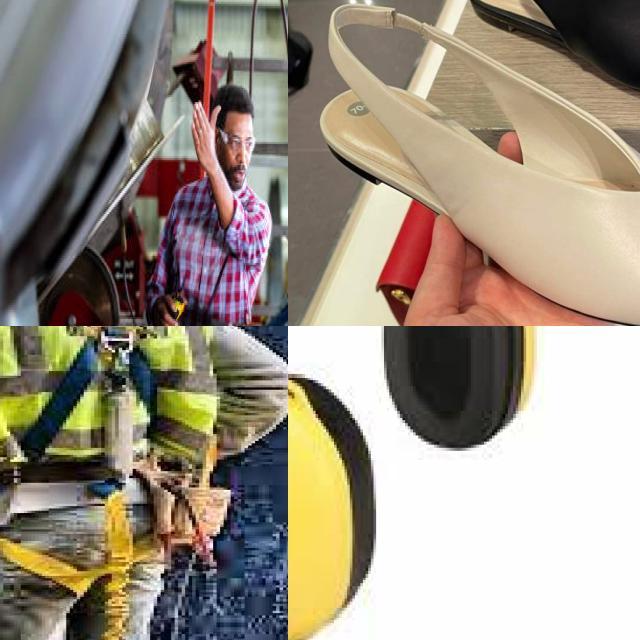Ear-protection: (288, 364, 373, 640), (366, 326, 541, 446)
Harness: (21, 326, 157, 460)
No_Ear-Protection: (215, 127, 222, 151)
Sandals: (288, 0, 640, 326), (456, 0, 640, 122)
face_nomask: (215, 132, 250, 191)
glasses: (219, 129, 255, 154)
hand_noglove: (192, 103, 220, 172), (153, 293, 179, 326)
head_nohelmet: (213, 84, 253, 129)
